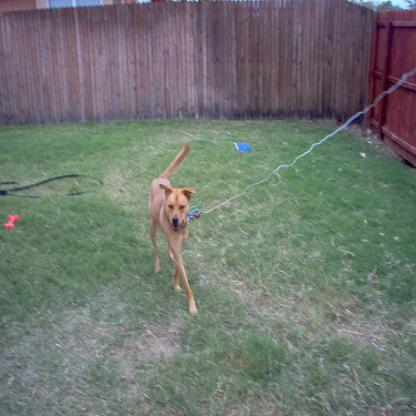dog: (147, 141, 200, 314)
